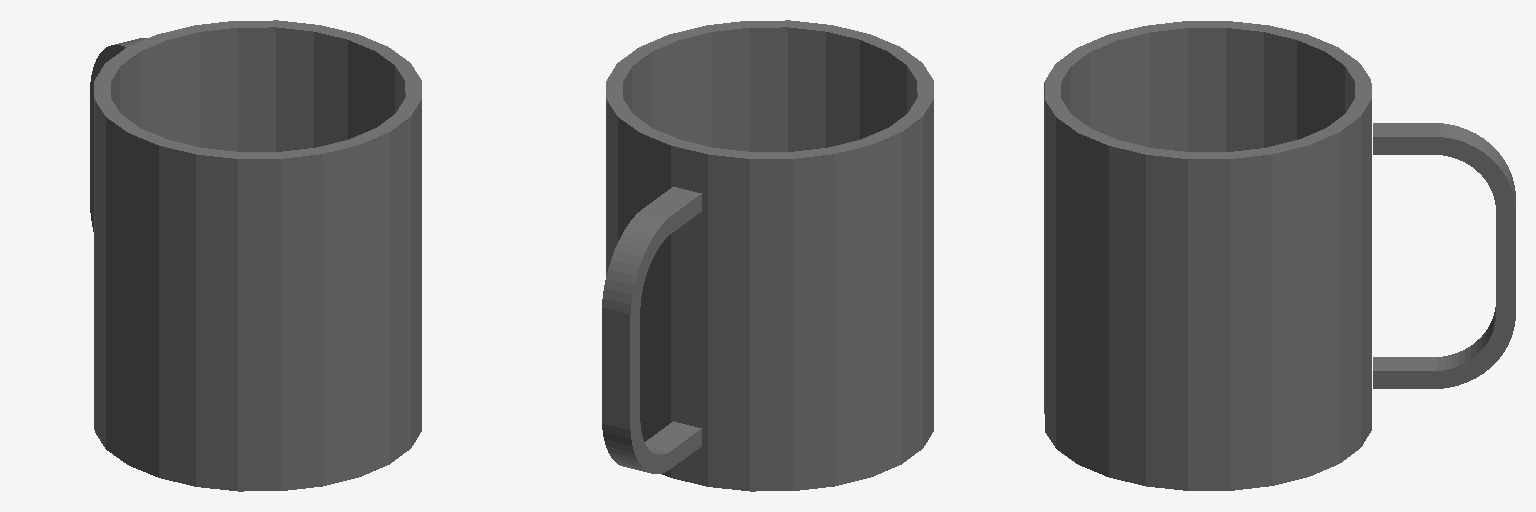
URDF robot description (object):
<?xml version="1.0"?>
<robot name="object">
  <link name="object">
    <visual>
      <origin xyz="0 0 0"/>
      <geometry>
        <mesh
          filename="../../mesh/oakink_virtual/mug_s198.stl" />
      </geometry>
      <material name="mat">
        <color rgba="0.5 0.5 0.5 1"/>
      </material>
    </visual>

    <collision>
      <origin xyz="0 0 0"/>
      <geometry>
        <mesh
          filename="../../mesh/oakink_virtual/mug_s198.stl" />
      </geometry>
    </collision>
  </link>
</robot>

--- What the picture shows (computed from the rendered views, not written in the file) ---
The picture shows the robot from 3 angles, left to right: view 1: azimuth 30°, elevation 25°; view 2: azimuth 150°, elevation 25°; view 3: azimuth 270°, elevation 25°; orthographic projection.
Model object with 1 links and 0 joints (none), rooted at object, posed all joints at 0.
Links seen in each view (by area): view 1: object; view 2: object; view 3: object.
Boxes of the visible links, x1,y1,x2,y2 form: object: [90, 20, 421, 491]; object: [602, 20, 933, 491]; object: [1044, 21, 1515, 490].
Size in the robot's own frame: 0.0835 by 0.1201 by 0.0934 metres.
1 mesh visuals loaded from 1 distinct referenced files (1 binary STL).